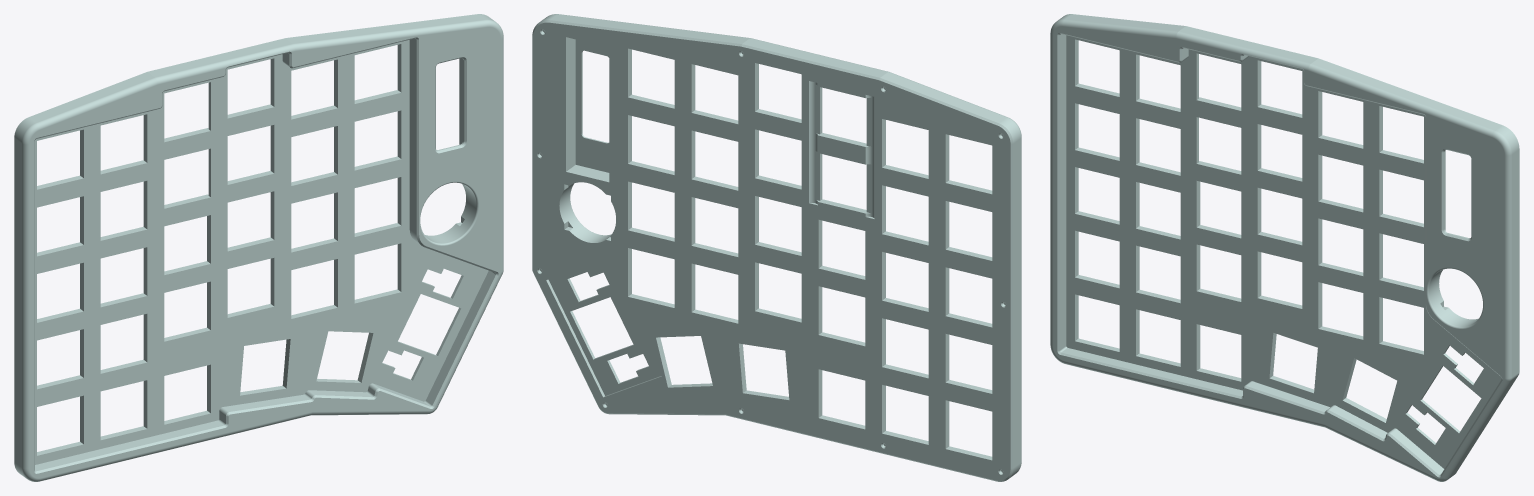
The model's file is Takmak - Left Low Top.glb.
The picture shows the model from 3 angles, left to right: view 1: azimuth 30°, elevation 25°; view 2: azimuth 150°, elevation 25°; view 3: azimuth 330°, elevation 25°; orthographic projection. The views are drawn at different scales.
Visible parts, largest first — view 1: Left Low Top; view 2: Left Low Top; view 3: Left Low Top.
Boxes of the visible parts, <box> form: Left Low Top: <box>14,14,503,481</box>; Left Low Top: <box>532,14,1021,481</box>; Left Low Top: <box>1050,14,1519,481</box>.
Bounding box in the file's own units: 0.1442 × 0.1154 × 0.006.
